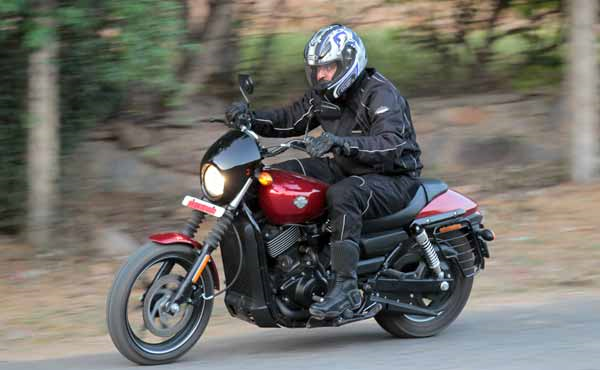Bike: (99, 122, 499, 367)
